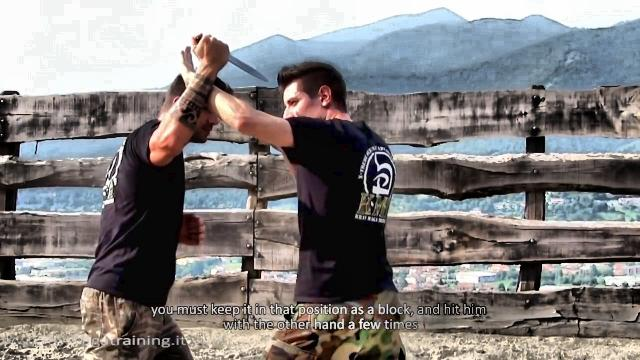knife: (190, 28, 270, 84)
